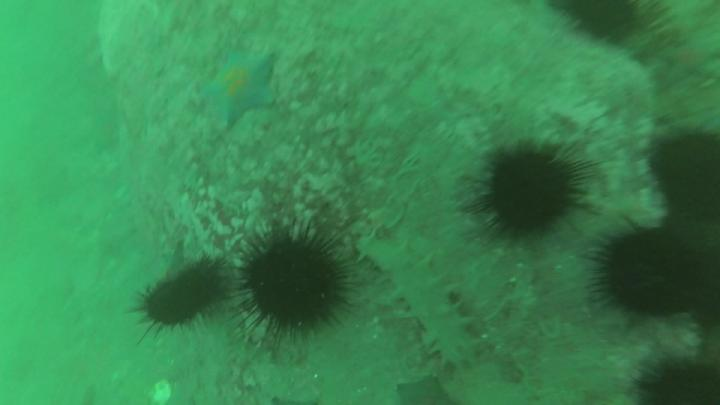echinus: (235, 224, 351, 354), (466, 139, 597, 248), (589, 219, 709, 327), (641, 124, 720, 231), (130, 260, 220, 350), (545, 1, 644, 49), (634, 356, 720, 405)
holothurian: (348, 222, 487, 377)
starfish: (202, 48, 281, 130)
